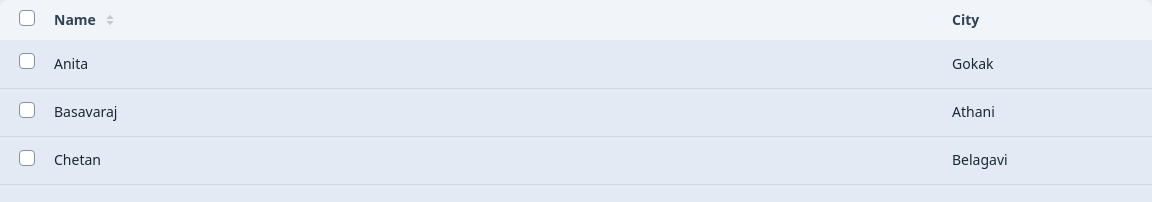
DataTable selection › finishes selecting when some are already selected
Click the checkbox named "Select Anita".
click(27, 61)  # box [19,53,35,69]
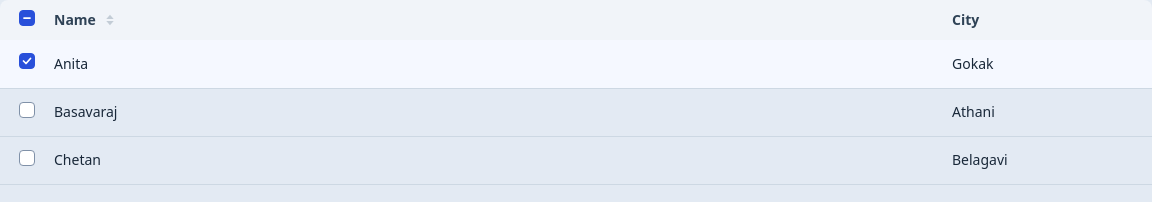
Click the checkbox named "Select all rows".
click(27, 18)  # box [19,10,35,26]
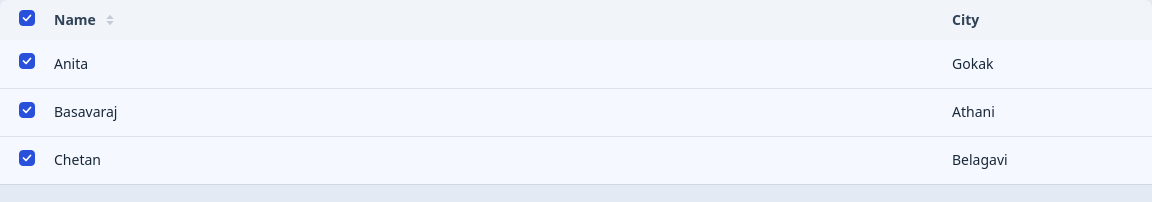
Now the checkbox named "Select Chetan" is checked, box [19,150,35,166]
